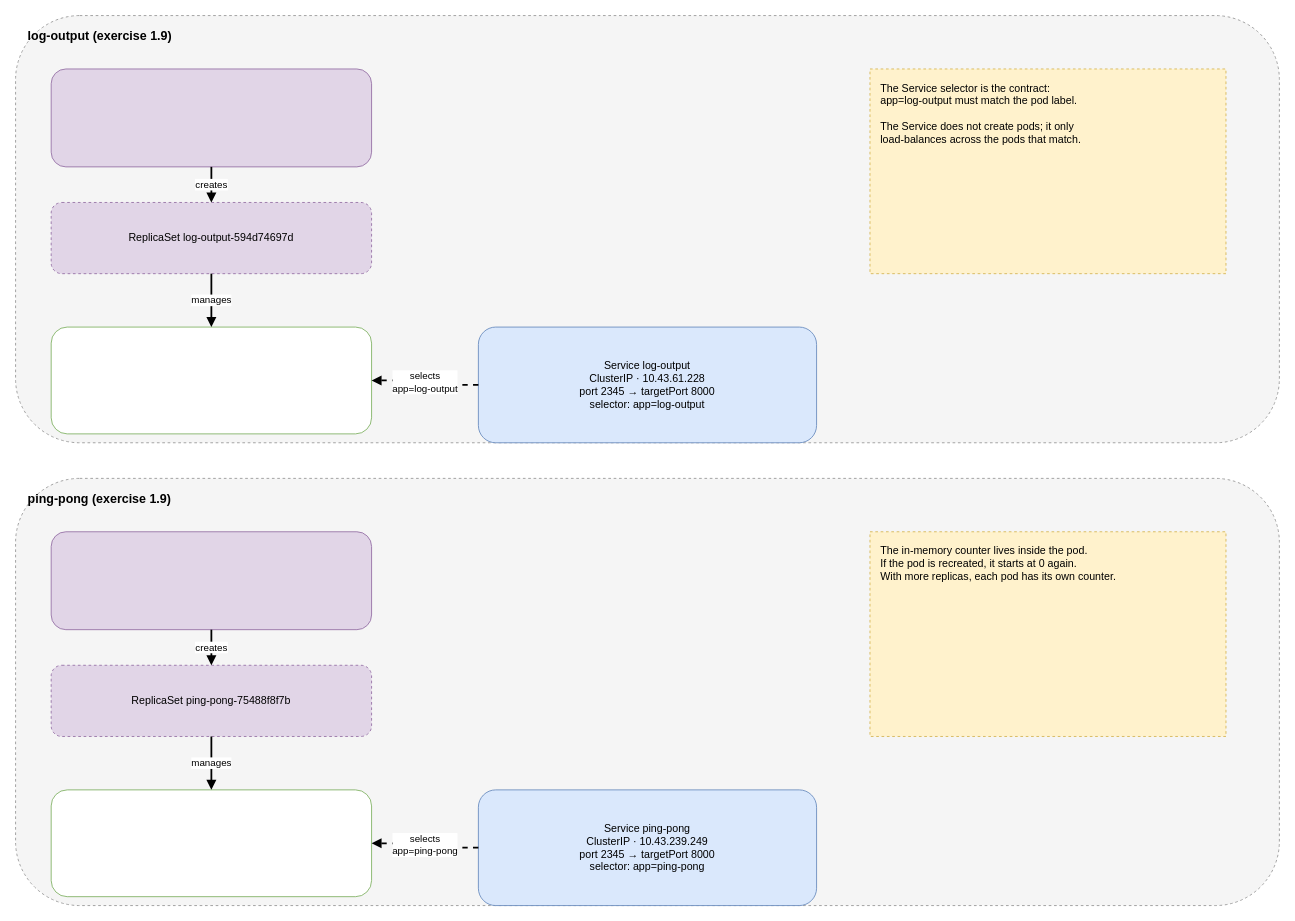
The diagram is 1295 pixels wide and 921 high, and some of its shapes have lost their labels. The centre of each missing label's shape, as x and y in pixels:
Deployment log-output replicas: 1 selector: app=log-output: (x=211, y=117)
Deployment ping-pong replicas: 1 selector: app=ping-pong: (x=211, y=580)
Pod log-output-594d74697d-xq6tp labels: app=log-output containerPort: 8000: (x=211, y=380)
Pod ping-pong-75488f8f7b-d92sd labels: app=ping-pong containerPort: 8000: (x=211, y=843)
